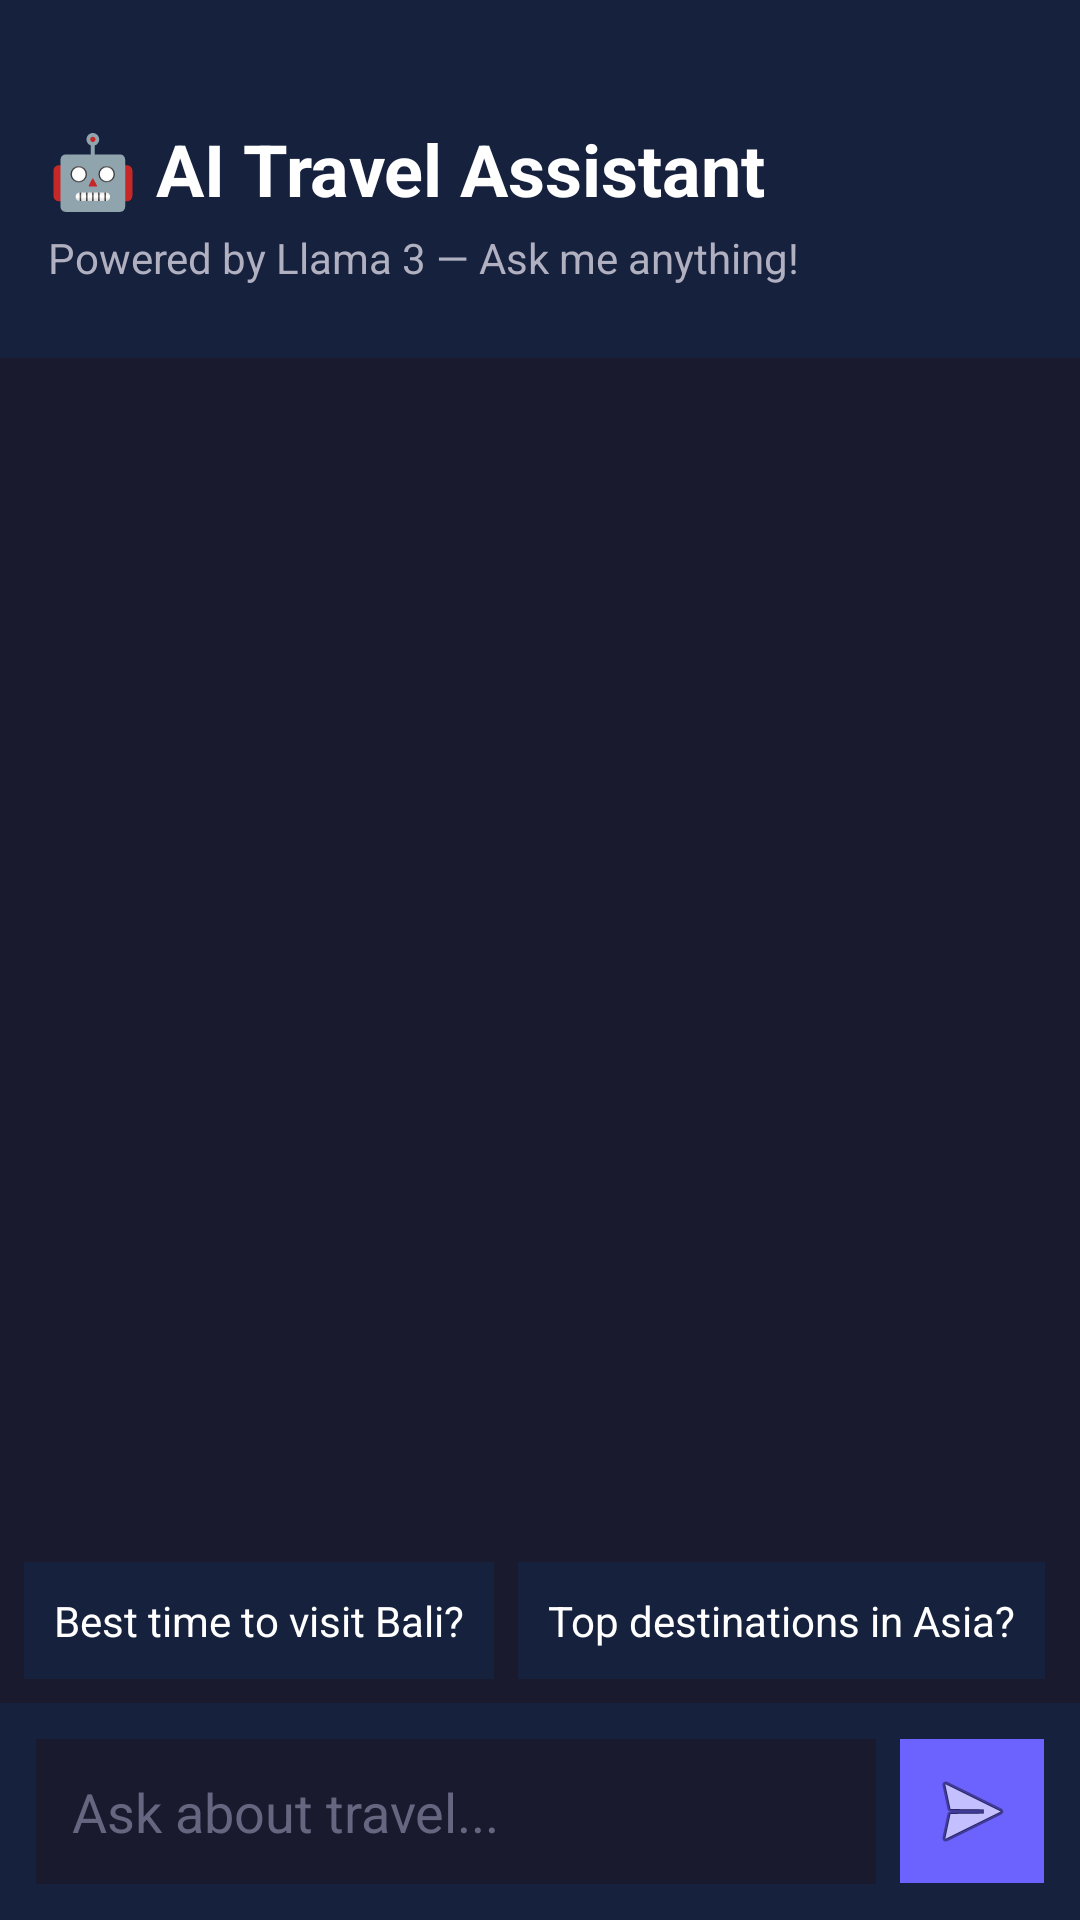

Screen size 1080w x 1920h. Icon name, then its box in pixels as (x1, y1, x2, y2):
Send: (900, 1739, 1044, 1883)
